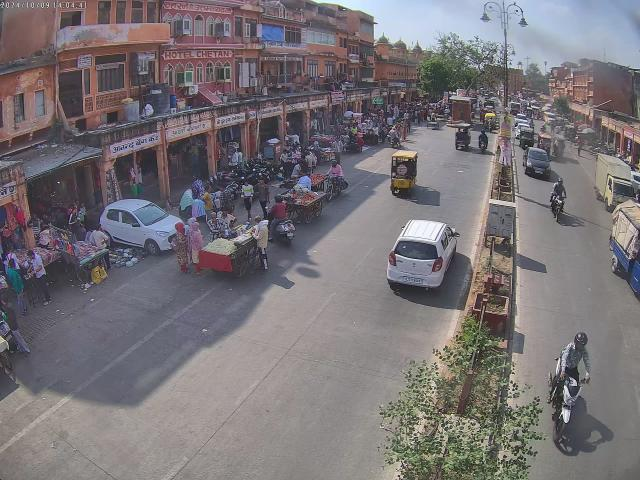auto: (386, 218, 458, 294), (607, 201, 640, 308), (388, 150, 418, 196), (453, 122, 472, 150), (518, 124, 536, 148), (482, 111, 500, 130)
car: (99, 197, 184, 255), (522, 146, 552, 178)
helmet: (573, 332, 588, 344), (557, 178, 564, 188)
license_plate: (402, 274, 424, 282)
lorry: (595, 154, 635, 208)
motorbike: (246, 158, 270, 178)
motorbike-rider: (546, 330, 592, 448), (324, 158, 346, 201), (548, 179, 568, 222)
person: (188, 221, 204, 275), (172, 222, 188, 272)
scooty: (590, 142, 609, 156)
scooty-rider: (266, 192, 296, 246), (478, 130, 489, 153)
vendor: (198, 231, 270, 278)
